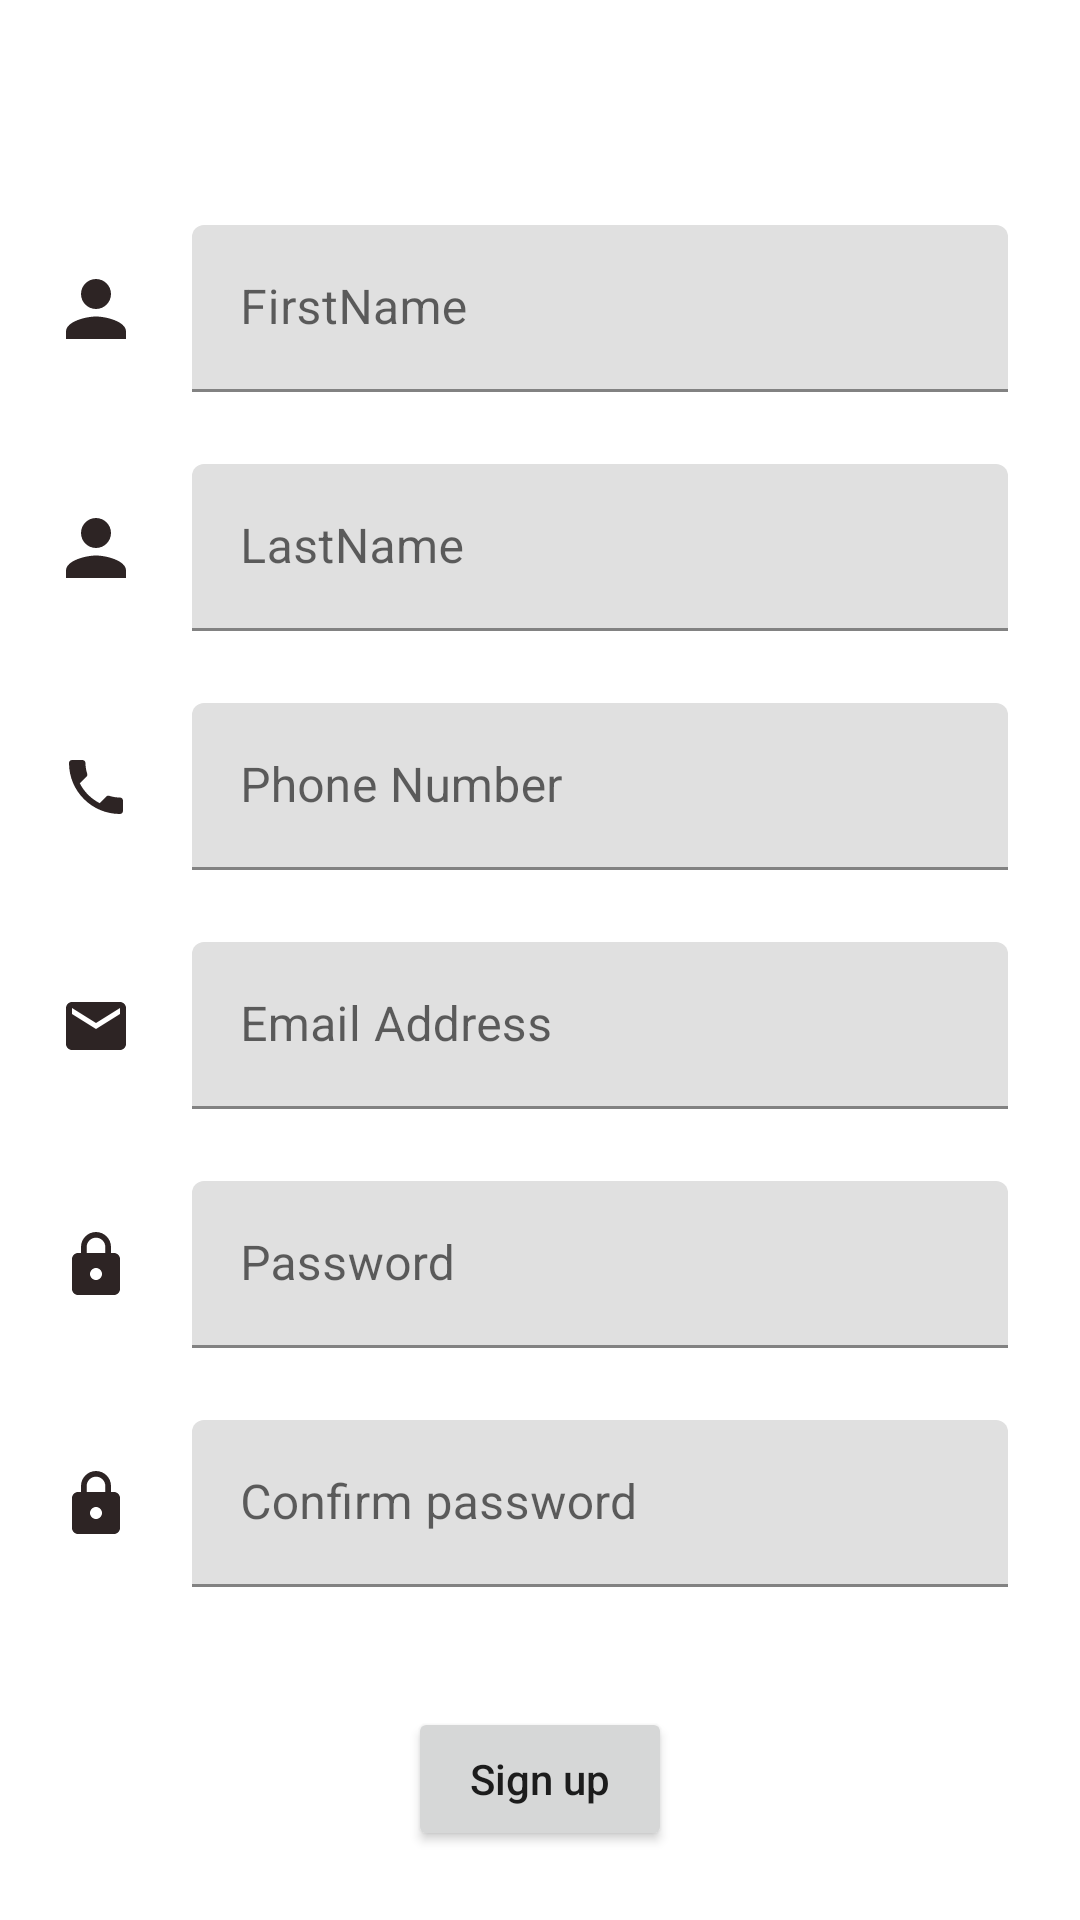

Screen size 1080×1920. Icon name, then its box in pixels as (x1, y1, x2, y2):
lock: (72, 1232, 120, 1295), (72, 1471, 120, 1534)
person: (66, 279, 126, 339), (66, 518, 126, 578)
